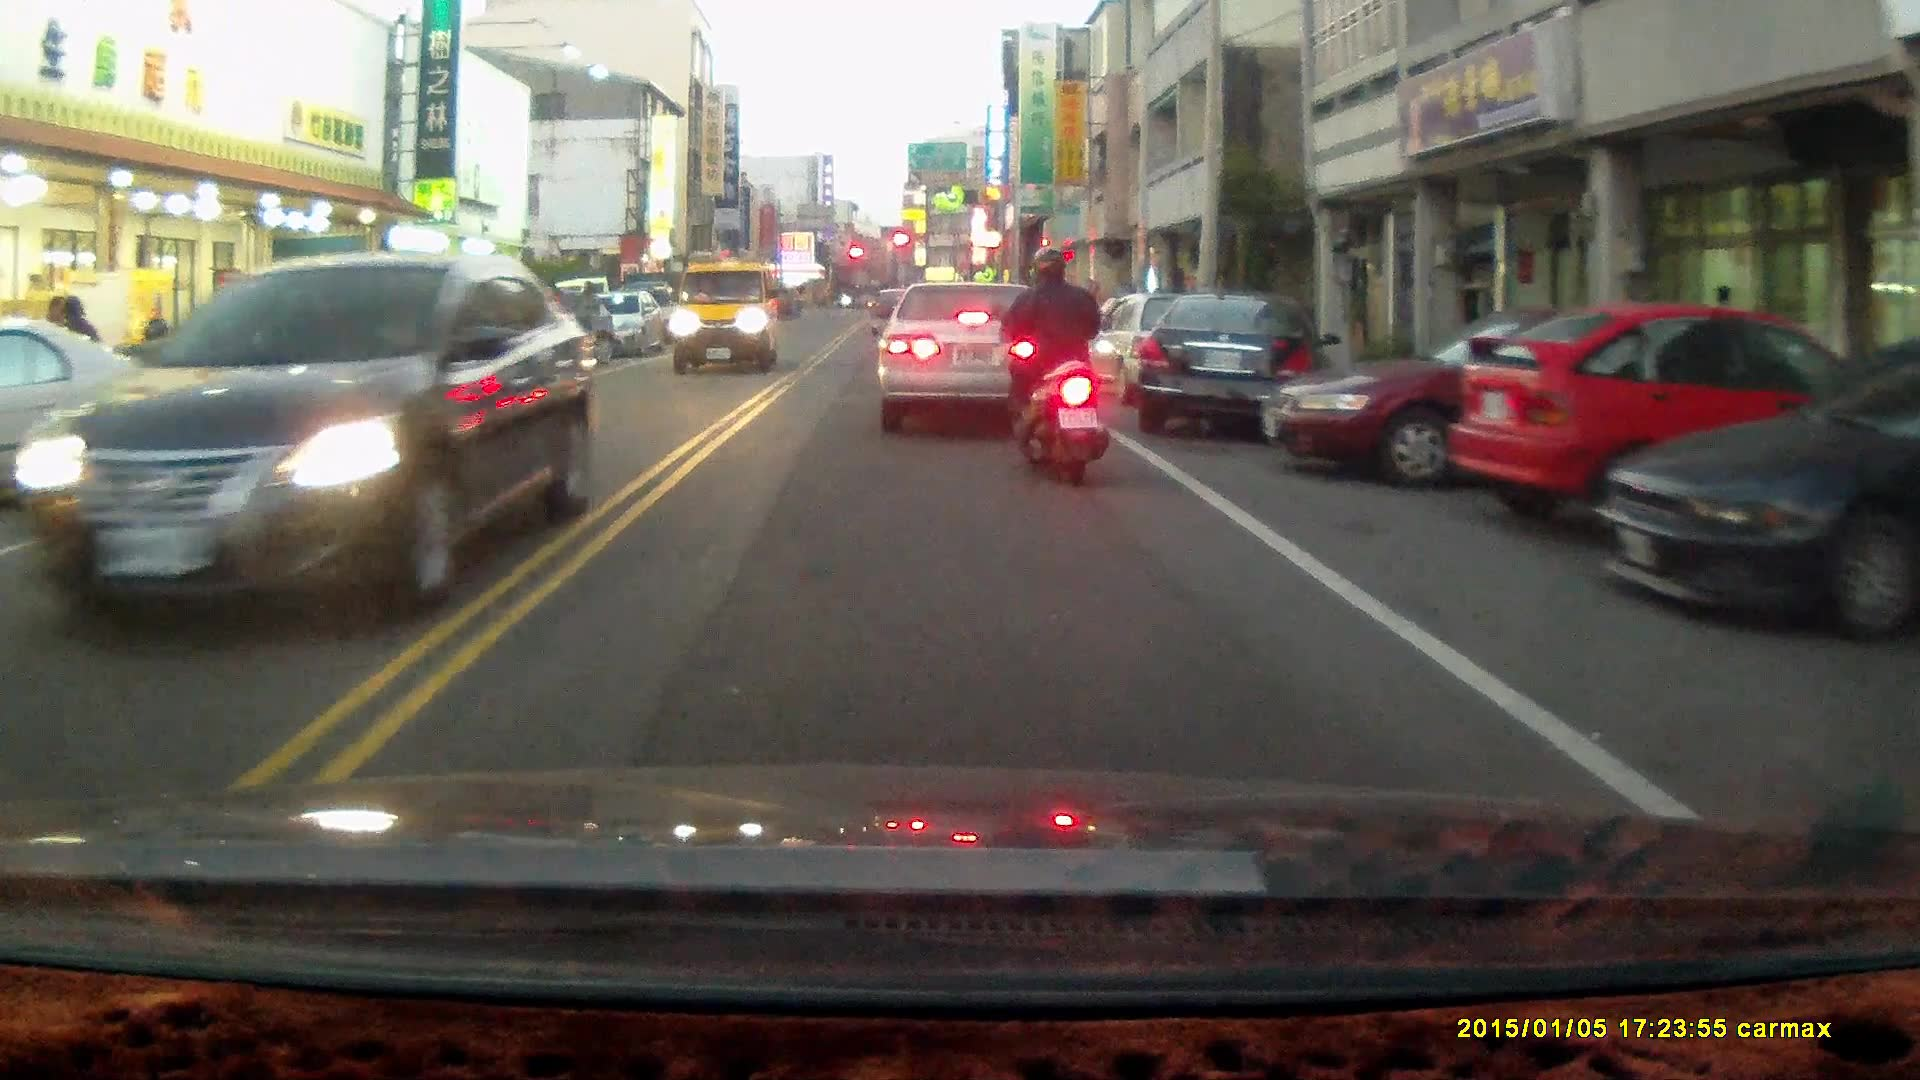pedestrian: (569, 280, 602, 372)
rider: (990, 248, 1117, 490)
vehicle: (18, 250, 594, 624), (1586, 333, 1920, 646), (1448, 305, 1852, 550), (1261, 306, 1720, 491), (1, 316, 217, 506), (1126, 293, 1317, 439), (875, 278, 1058, 425), (668, 259, 777, 376)
